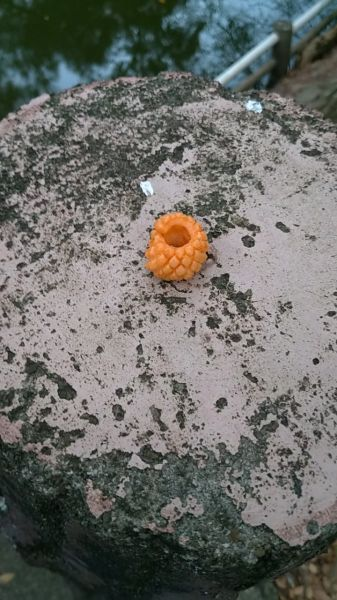eggs: (141, 207, 212, 283)
